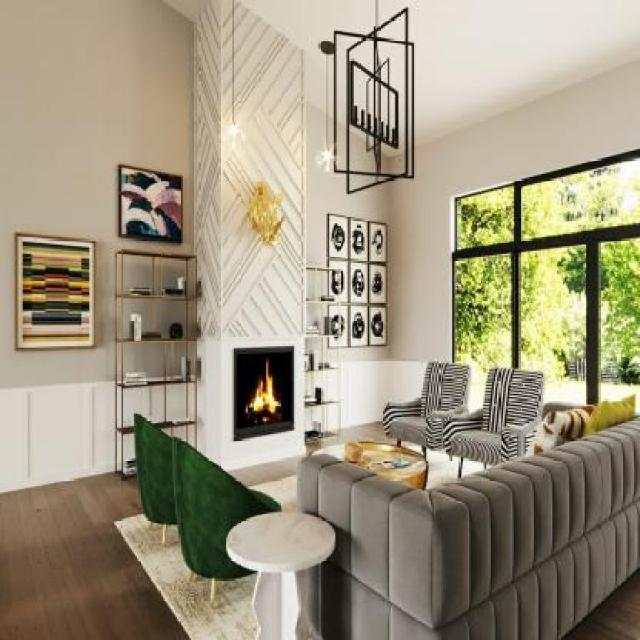floor: (0, 471, 262, 640), (0, 471, 133, 640)
